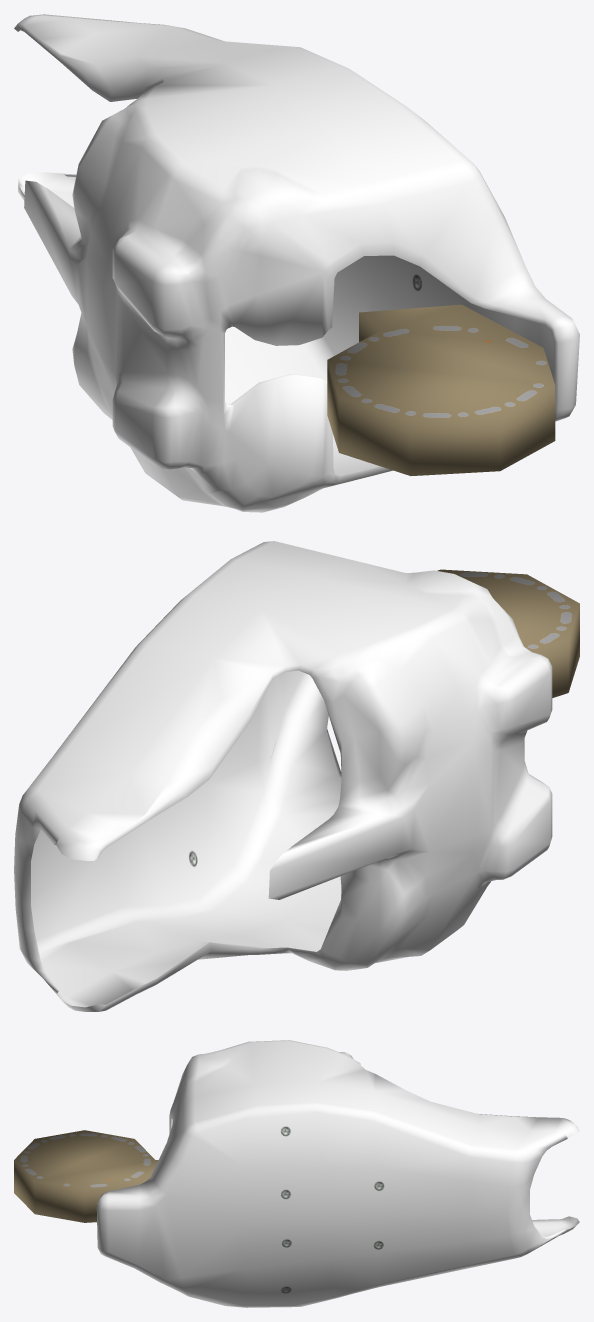
File: lj4_left_texture.obj
3 views of the same model, one above another, from view 1: azimuth 30°, elevation 25°; view 2: azimuth 150°, elevation 25°; view 3: azimuth 270°, elevation 25° (orthographic). The views are drawn at different scales.
Size of the model in its own units: 0.1865 by 0.1791 by 0.4459.
1 material, 1 textured.
